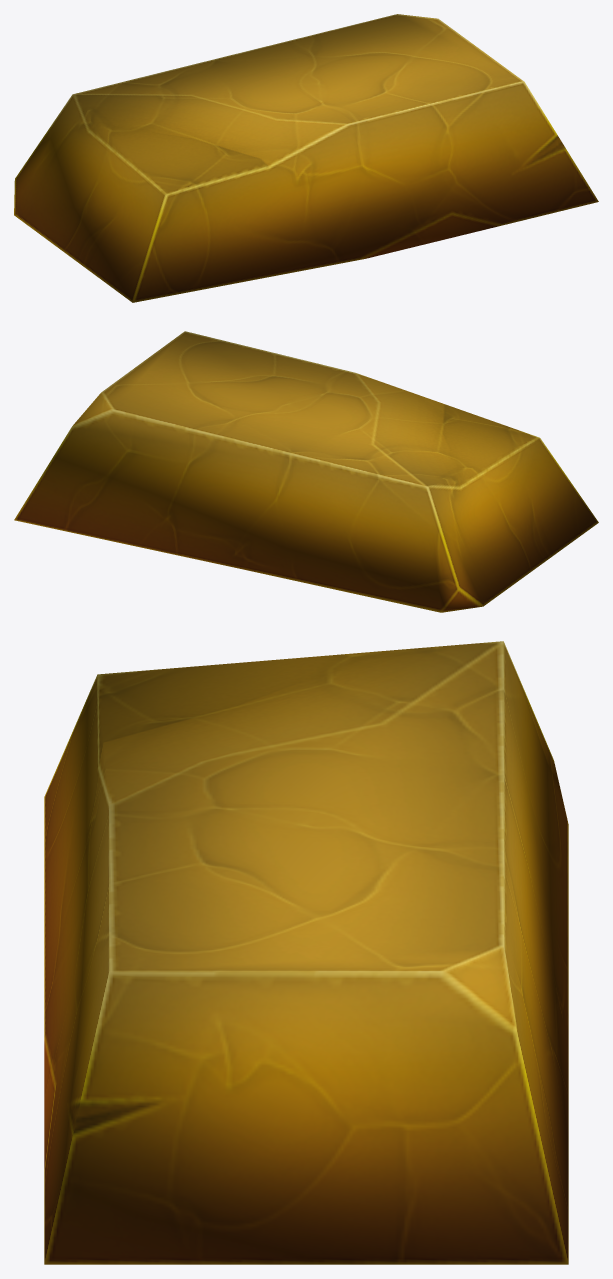
File: Gold-01.fbx
The picture shows the model from 3 angles, top to bottom: view 1: azimuth 30°, elevation 25°; view 2: azimuth 150°, elevation 25°; view 3: azimuth 270°, elevation 25°; orthographic projection. The views are drawn at different scales.
Visible parts, largest first — view 1: Gold-01; view 2: Gold-01; view 3: Gold-01.
Boxes of the visible parts, x1=… form: Gold-01: x1=14, y1=14, x2=598, y2=302; Gold-01: x1=14, y1=331, x2=598, y2=612; Gold-01: x1=44, y1=641, x2=568, y2=1264.
Size of the model in its own units: 0.15 by 0.0375 by 0.075.
Materials: 1 (1 with a texture image).
